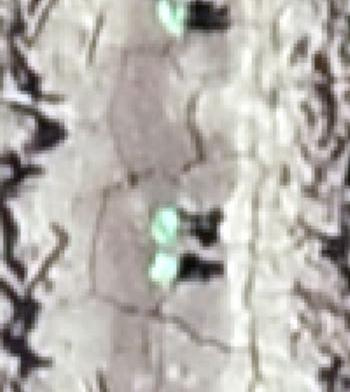cotton: (152, 206, 180, 247), (150, 252, 178, 287), (157, 1, 187, 33)
